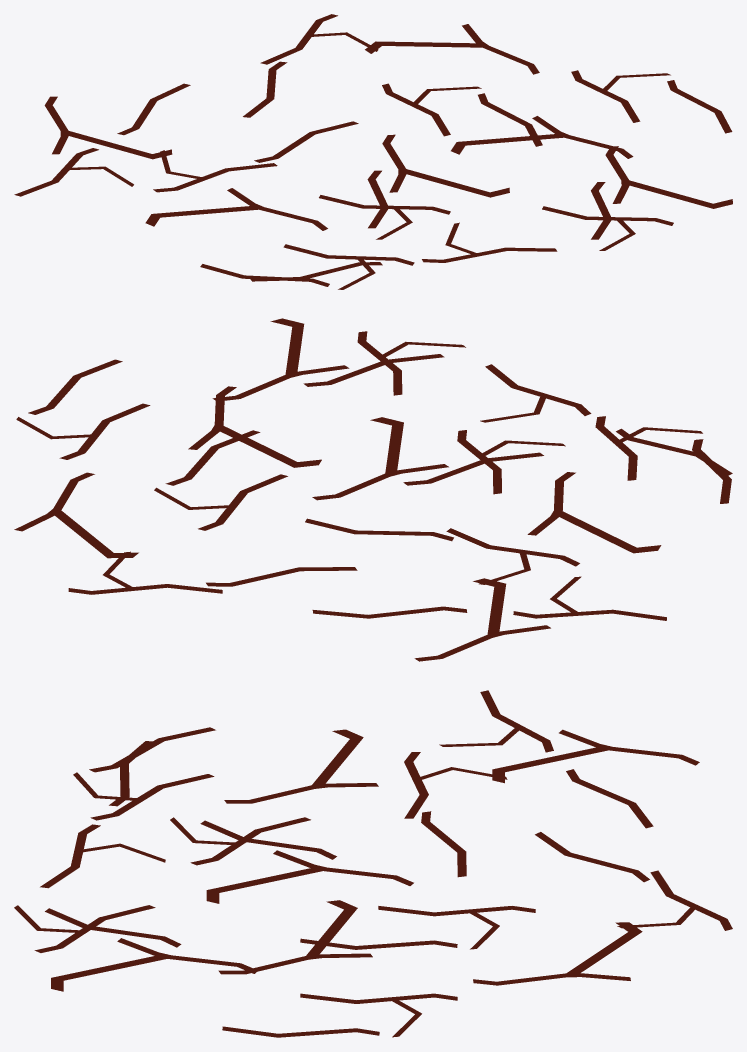
File: Stick_03.fbx
The picture shows the model from 3 angles, top to bottom: view 1: azimuth 30°, elevation 25°; view 2: azimuth 150°, elevation 25°; view 3: azimuth 270°, elevation 25°; orthographic projection. The views are drawn at different scales.
Visible parts, largest first — view 1: Stick_03; view 2: Stick_03; view 3: Stick_03.
Boxes of the visible parts, box(x1,y1,x2,y2) form: Stick_03: box(14, 14, 732, 289); Stick_03: box(14, 318, 732, 661); Stick_03: box(14, 690, 732, 1037).
Size of the model in its own units: 317 by 9.54e-07 by 277.
